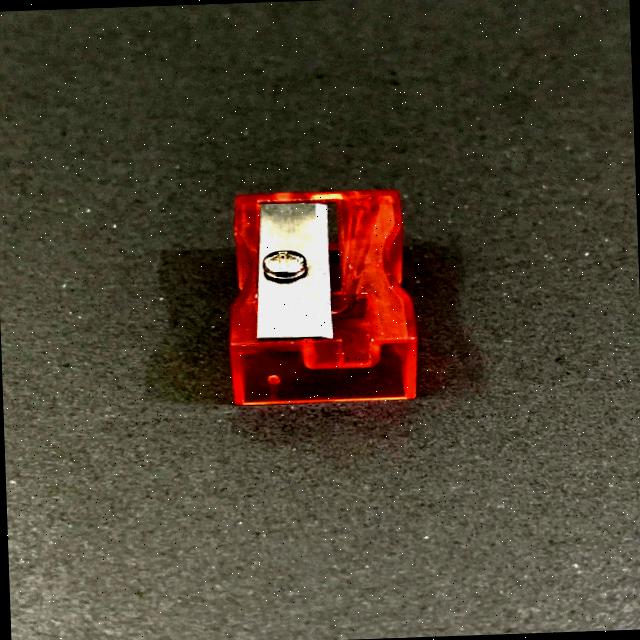Sharpner: (180, 158, 456, 436)
